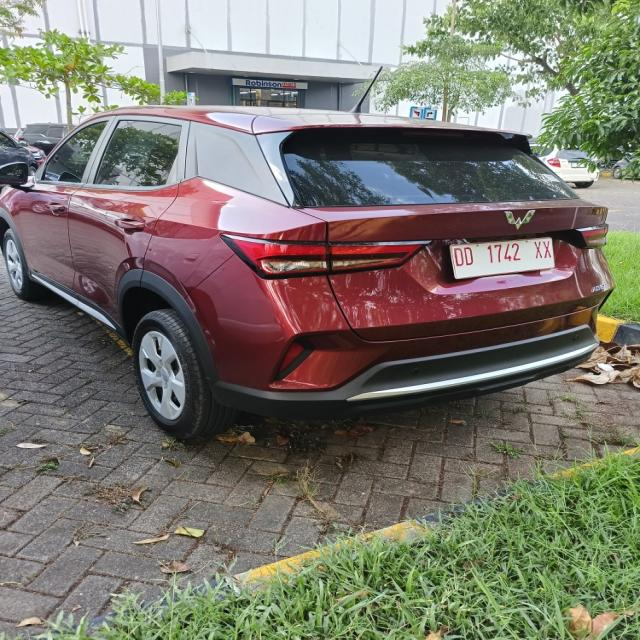plates: (448, 233, 559, 290)
